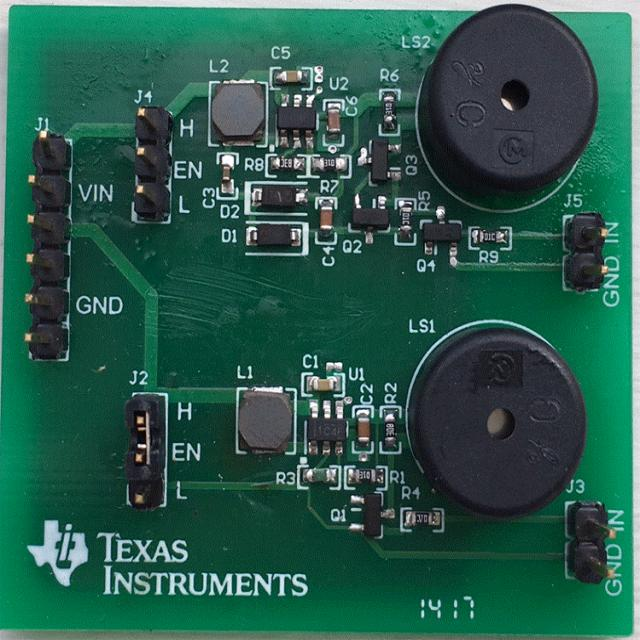4439: (353, 492, 390, 538), (423, 209, 460, 252), (361, 140, 395, 184), (353, 199, 387, 237)
IC: (306, 410, 348, 449), (278, 98, 316, 136)
buzzer: (421, 7, 600, 196), (410, 325, 584, 510)
capacitor 1V5: (308, 373, 340, 391), (321, 202, 334, 239), (276, 70, 310, 84), (356, 416, 370, 446), (328, 109, 343, 136), (222, 160, 233, 192)
connector -5v-: (28, 130, 68, 360), (126, 393, 166, 506), (134, 112, 174, 212), (565, 218, 608, 294), (572, 503, 611, 583)
diode -D1-: (256, 182, 304, 210), (251, 229, 300, 249)
inductor F1: (237, 392, 294, 451), (214, 78, 264, 145)
resistor IR1: (402, 511, 439, 528), (379, 96, 395, 132), (312, 156, 344, 172), (268, 157, 304, 171), (351, 468, 382, 484), (478, 230, 507, 246), (384, 413, 396, 447), (308, 470, 337, 484), (401, 202, 408, 232)
